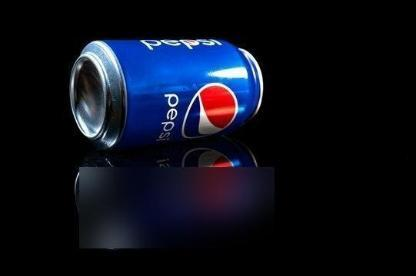Can: (66, 34, 266, 154)
